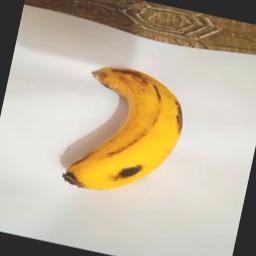Banana Unripe: (55, 52, 196, 206)
